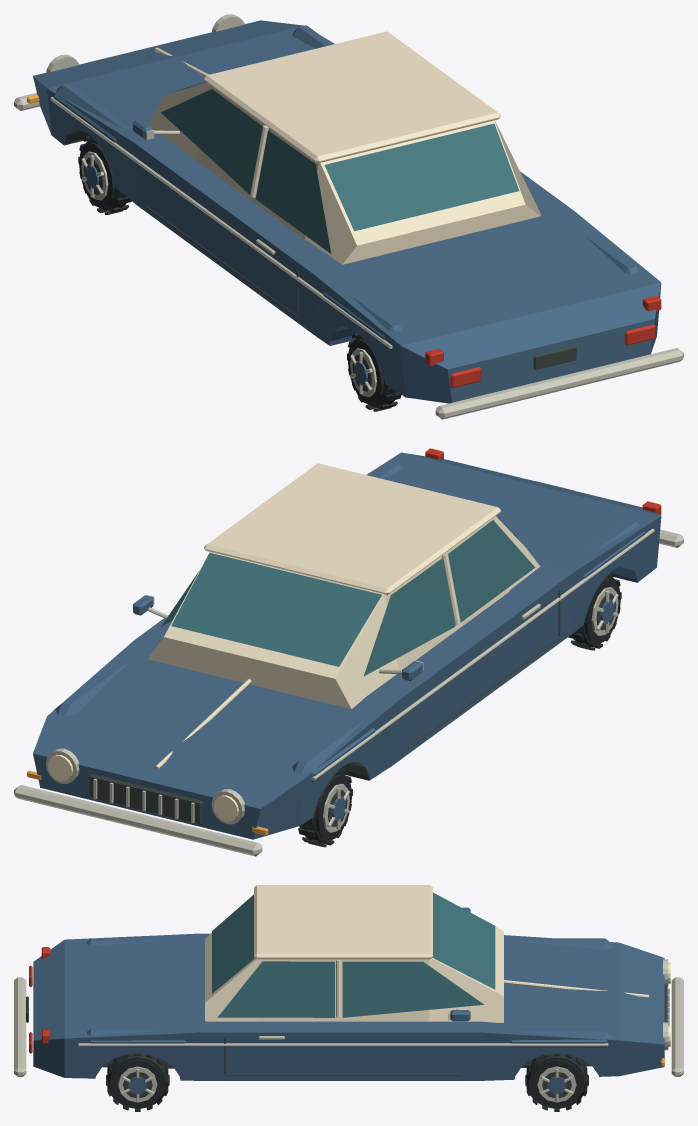
Rendered from sedan_detail.glb.
The picture shows the model from 3 angles, top to bottom: view 1: azimuth 30°, elevation 25°; view 2: azimuth 150°, elevation 25°; view 3: azimuth 270°, elevation 25°; orthographic projection. The views are drawn at different scales.
Visible parts, largest first — view 1: SedanModel Copper enamel, SedanModel Warm cream, SedanModel Teal canopy, SedanModel Warm alloy, SedanModel Red lamp, Spin.001 Rubber charcoal, Spin Rubber charcoal, SedanModel Dark grille, Spin.001 Warm alloy, Spin Warm alloy; view 2: SedanModel Copper enamel, SedanModel Warm cream, SedanModel Teal canopy, SedanModel Warm alloy, SedanModel Dark grille, Spin Rubber charcoal, Spin.001 Rubber charcoal, SedanModel Ivory lamp, Spin.001 Warm alloy, Spin Warm alloy; view 3: SedanModel Copper enamel, SedanModel Warm cream, SedanModel Teal canopy, SedanModel Warm alloy, Spin.003 Rubber charcoal, Spin.002 Rubber charcoal, SedanModel Dark grille, Spin.003 Warm alloy, Spin.002 Warm alloy, SedanModel Red lamp.
Boxes of the visible parts, left/top/right/bottom form: SedanModel Copper enamel: left=33, top=20, right=661, bottom=403; SedanModel Warm cream: left=148, top=31, right=541, bottom=264; SedanModel Teal canopy: left=161, top=81, right=519, bottom=253; SedanModel Warm alloy: left=14, top=14, right=683, bottom=419; SedanModel Red lamp: left=425, top=296, right=661, bottom=388; Spin.001 Rubber charcoal: left=347, top=333, right=401, bottom=411; Spin Rubber charcoal: left=78, top=135, right=131, bottom=214; SedanModel Dark grille: left=146, top=206, right=576, bottom=369; Spin.001 Warm alloy: left=350, top=348, right=376, bottom=396; Spin Warm alloy: left=81, top=151, right=108, bottom=200; SedanModel Copper enamel: left=33, top=452, right=661, bottom=839; SedanModel Warm cream: left=148, top=463, right=540, bottom=769; SedanModel Teal canopy: left=161, top=515, right=535, bottom=676; SedanModel Warm alloy: left=14, top=528, right=683, bottom=856; SedanModel Dark grille: left=89, top=481, right=573, bottom=824; Spin Rubber charcoal: left=298, top=767, right=352, bottom=847; Spin.001 Rubber charcoal: left=568, top=572, right=621, bottom=650; SedanModel Ivory lamp: left=48, top=755, right=238, bottom=821; Spin.001 Warm alloy: left=591, top=587, right=618, bottom=635; Spin Warm alloy: left=323, top=783, right=349, bottom=832; SedanModel Copper enamel: left=33, top=907, right=664, bottom=1080; SedanModel Warm cream: left=205, top=885, right=649, bottom=1022; SedanModel Teal canopy: left=212, top=892, right=495, bottom=1017; SedanModel Warm alloy: left=14, top=959, right=683, bottom=1076; Spin.003 Rubber charcoal: left=106, top=1053, right=169, bottom=1111; Spin.002 Rubber charcoal: left=525, top=1053, right=588, bottom=1111; SedanModel Dark grille: left=26, top=984, right=667, bottom=1075; Spin.003 Warm alloy: left=118, top=1066, right=157, bottom=1102; Spin.002 Warm alloy: left=537, top=1066, right=576, bottom=1102; SedanModel Red lamp: left=29, top=947, right=50, bottom=1053.
Size of the model in its own units: 1.94 by 1.26 by 5.16.
